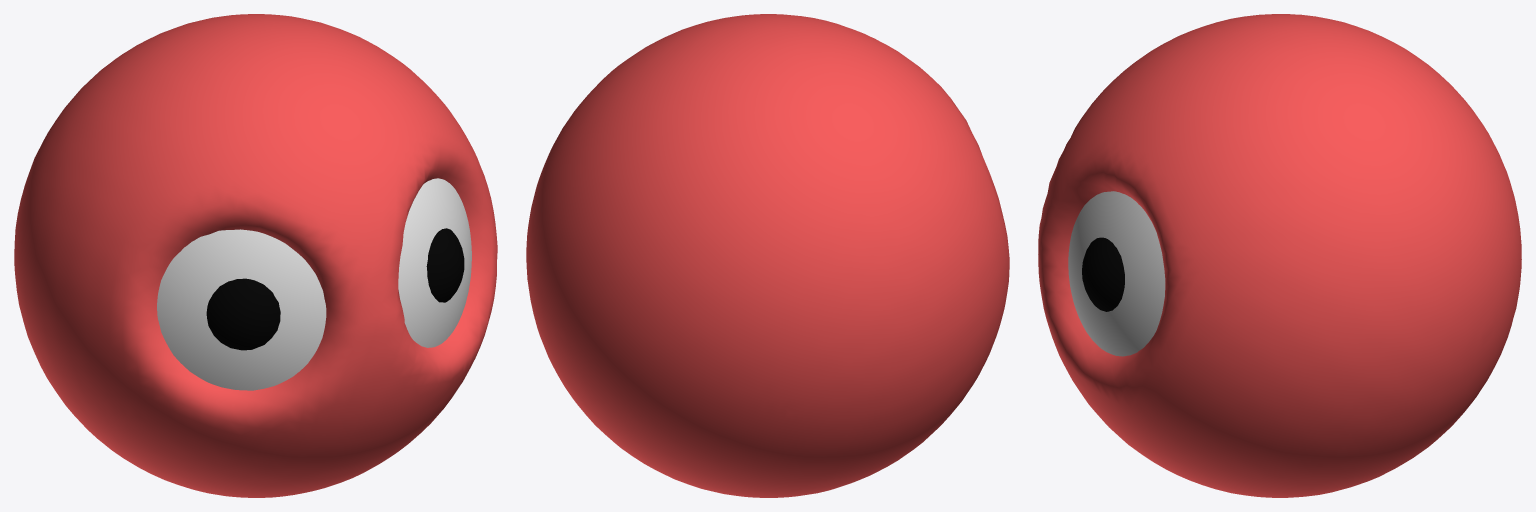
The model's file is default ball.fbx.
3 renders of one model, left to right at view 1: azimuth 30°, elevation 25°; view 2: azimuth 150°, elevation 25°; view 3: azimuth 270°, elevation 25°, orthographic.
Parts seen in each view (by area): view 1: Sphere.009; view 2: Sphere.009; view 3: Sphere.009.
Boxes of the visible parts, x1=… form: Sphere.009: x1=14, y1=14, x2=497, y2=497; Sphere.009: x1=526, y1=14, x2=1009, y2=497; Sphere.009: x1=1038, y1=14, x2=1521, y2=497.
Bounding box in the file's own units: 200 × 200 × 200.
